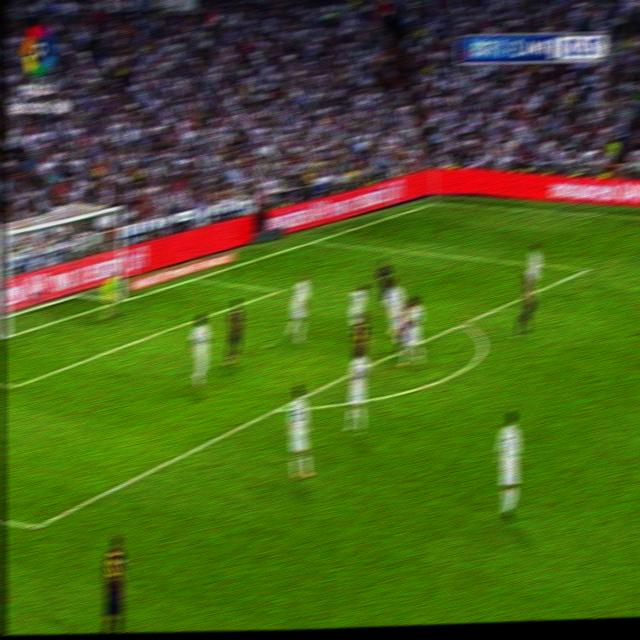bigarea_bottom_inner: (28, 512, 44, 540)
bigarea_top_inner: (579, 260, 593, 278)
corner: (428, 195, 440, 208)
top_arc_area_intersection: (457, 312, 470, 333)
